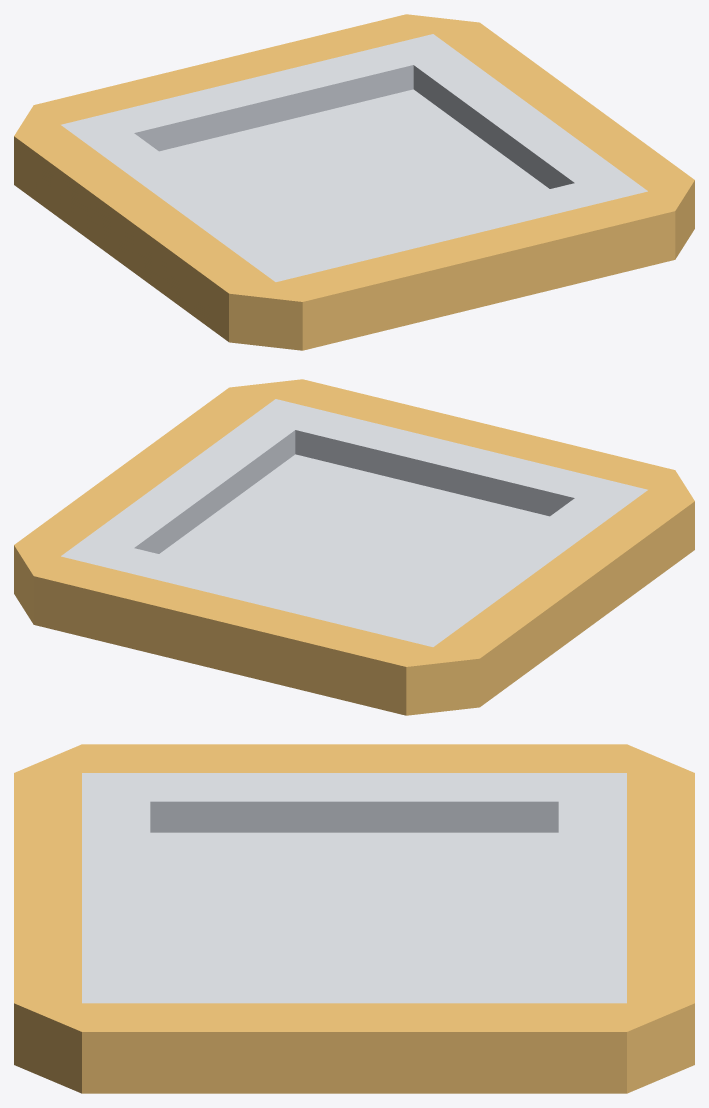
File: platform_small.glb
The picture shows the model from 3 angles, top to bottom: view 1: azimuth 30°, elevation 25°; view 2: azimuth 150°, elevation 25°; view 3: azimuth 270°, elevation 25°; orthographic projection. The views are drawn at different scales.
Parts seen in each view (by area): view 1: platform_small; view 2: platform_small; view 3: platform_small.
Part boxes in pixels (x1,y1,x2,y2): platform_small: (14,14,694,350); platform_small: (14,379,694,715); platform_small: (14,744,694,1093).
Bounding box in the file's own units: 1 × 0.1 × 1.
